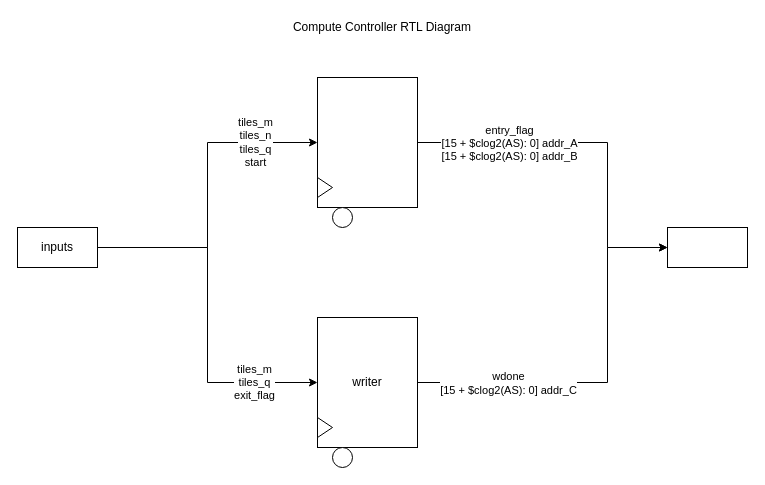
Some shapes in this 765 by 485 pixel diagram are drawn without their labels. The shapes that lost their labels are listed below. From the top down, each one's box as (x1, y1, x2, y2) in pixels, then its label:
(316, 76, 418, 208): feeder
(666, 226, 748, 268): output
